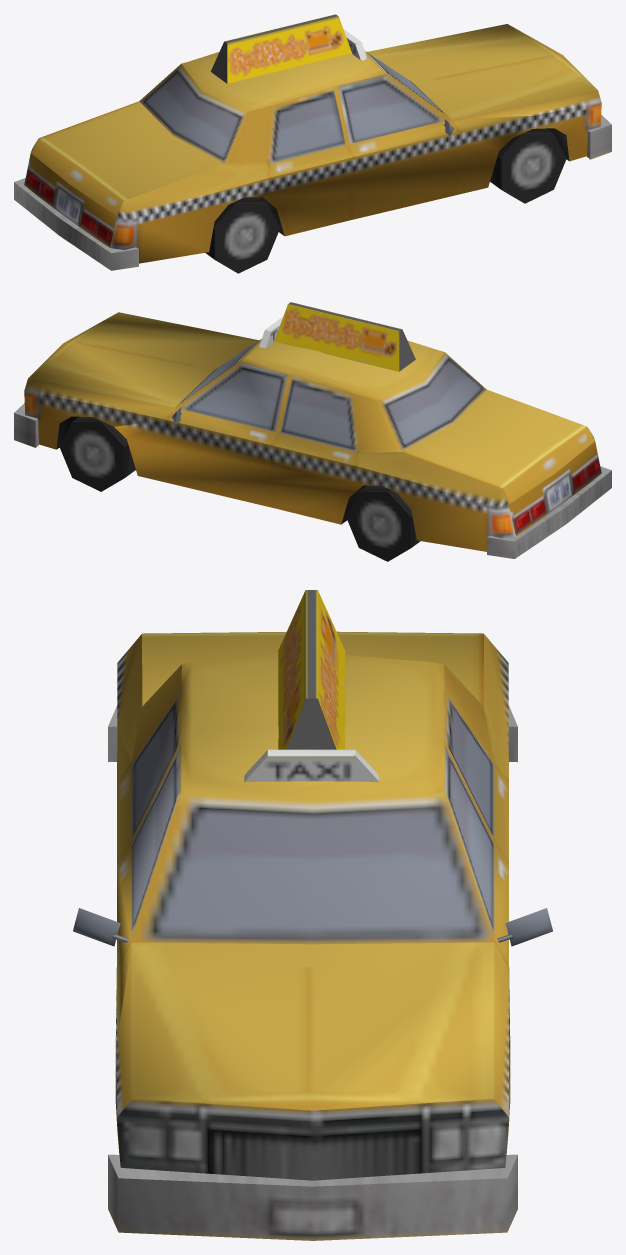
The model's file is fhqDiecast18CarNormalTaxi.fbx.
The picture shows the model from 3 angles, top to bottom: view 1: azimuth 30°, elevation 25°; view 2: azimuth 150°, elevation 25°; view 3: azimuth 270°, elevation 25°; orthographic projection. The views are drawn at different scales.
Visible parts, largest first — view 1: Vehicles_CarNormalTaxi; view 2: Vehicles_CarNormalTaxi; view 3: Vehicles_CarNormalTaxi.
Part boxes in pixels (box(x1,y1,x2,y2)): Vehicles_CarNormalTaxi: box(14, 14, 611, 273); Vehicles_CarNormalTaxi: box(14, 302, 611, 561); Vehicles_CarNormalTaxi: box(73, 590, 552, 1240).
Bounding box in the file's own units: 0.5172 × 0.1808 × 0.21.
